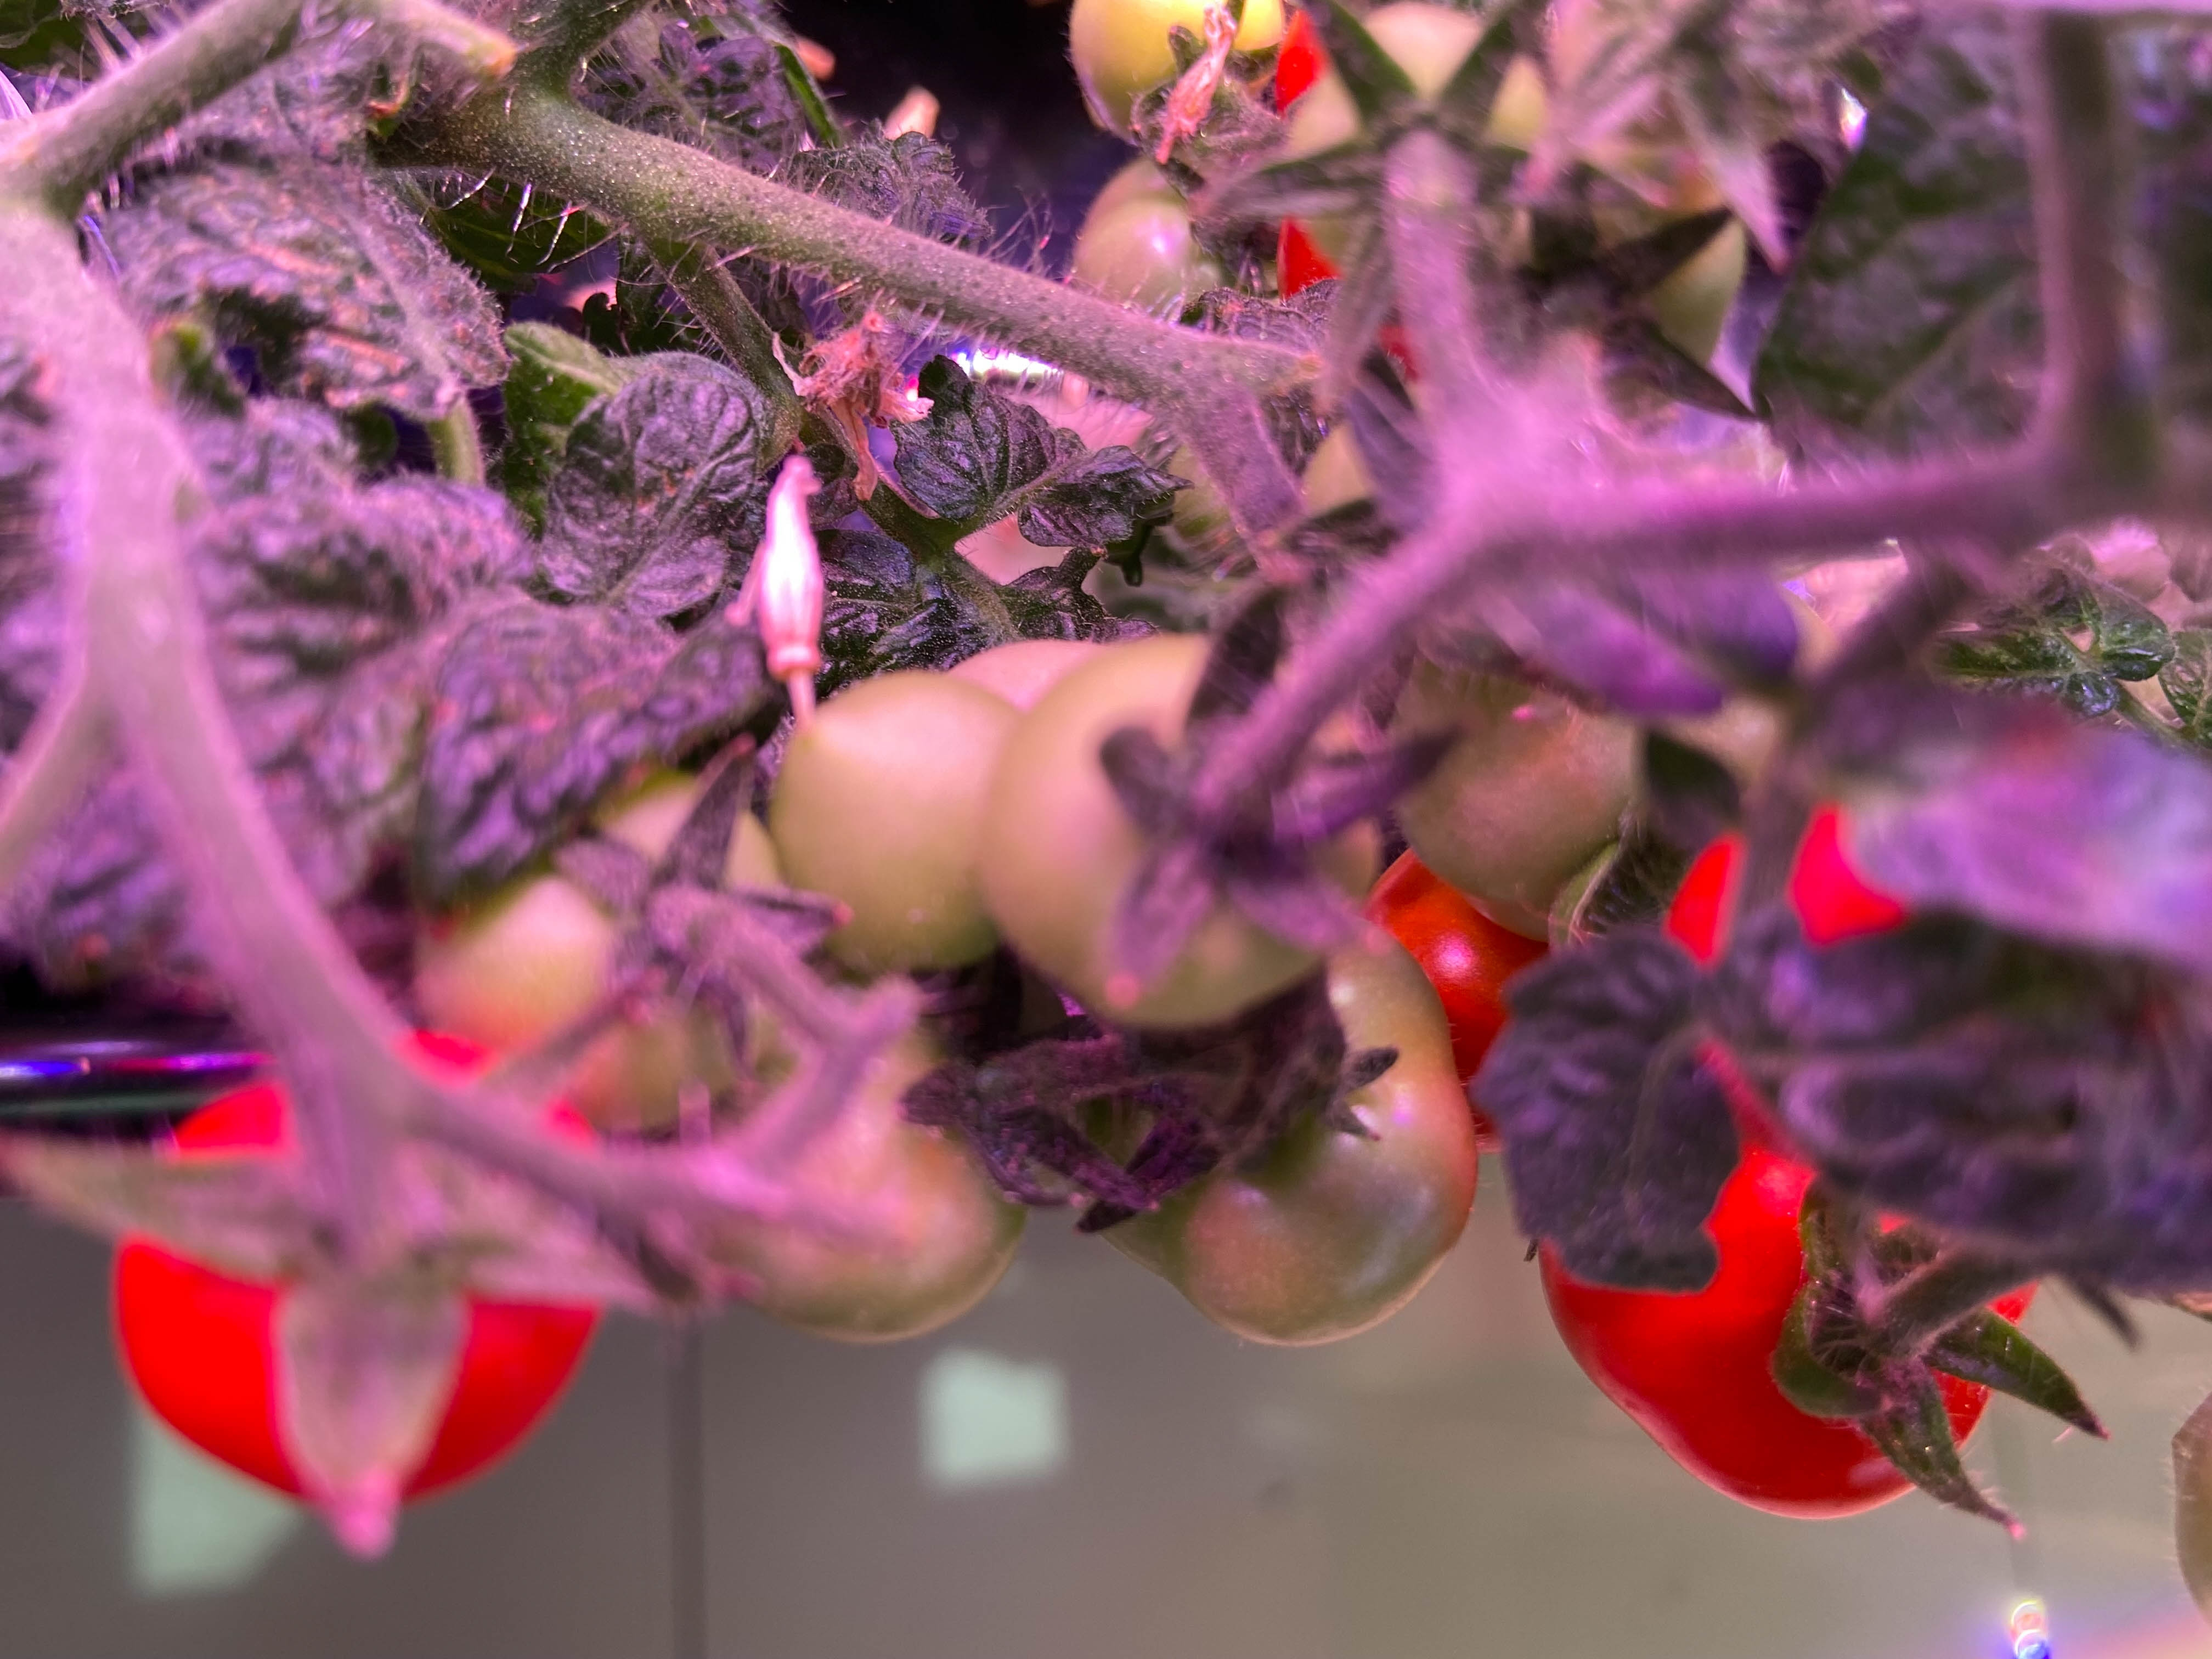green: (418, 762, 817, 1136), (981, 634, 1355, 1023), (1118, 972, 1482, 1340), (711, 1007, 1026, 1342), (765, 655, 1054, 972), (1393, 653, 1644, 911), (1280, 3, 1554, 195), (1068, 162, 1244, 329)
red: (111, 1019, 599, 1516), (1536, 1126, 1980, 1516), (1665, 788, 1968, 1171), (1343, 843, 1561, 1080), (1268, 179, 1484, 394), (1066, 0, 1313, 146)
